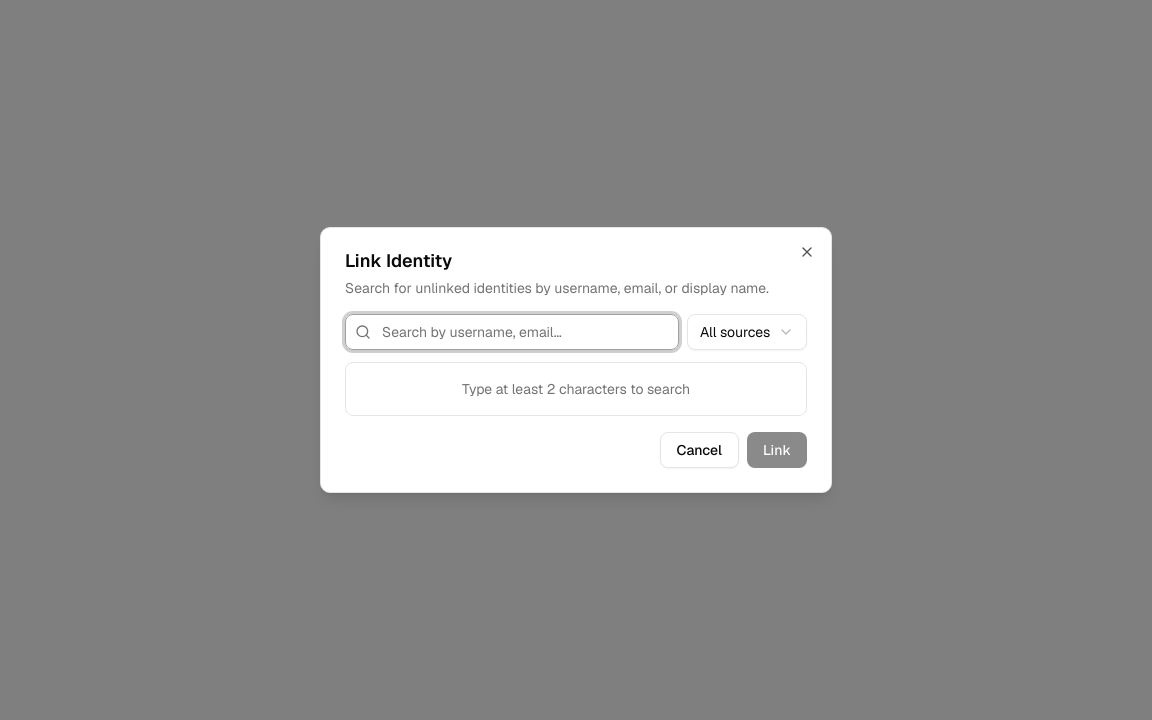
Test: LinkIdentityDialog › shows no results message when search returns empty
In the field with placeholder "Search by username, email…": coordinates (512, 332) [345,314,679,350], type "nonexistent"
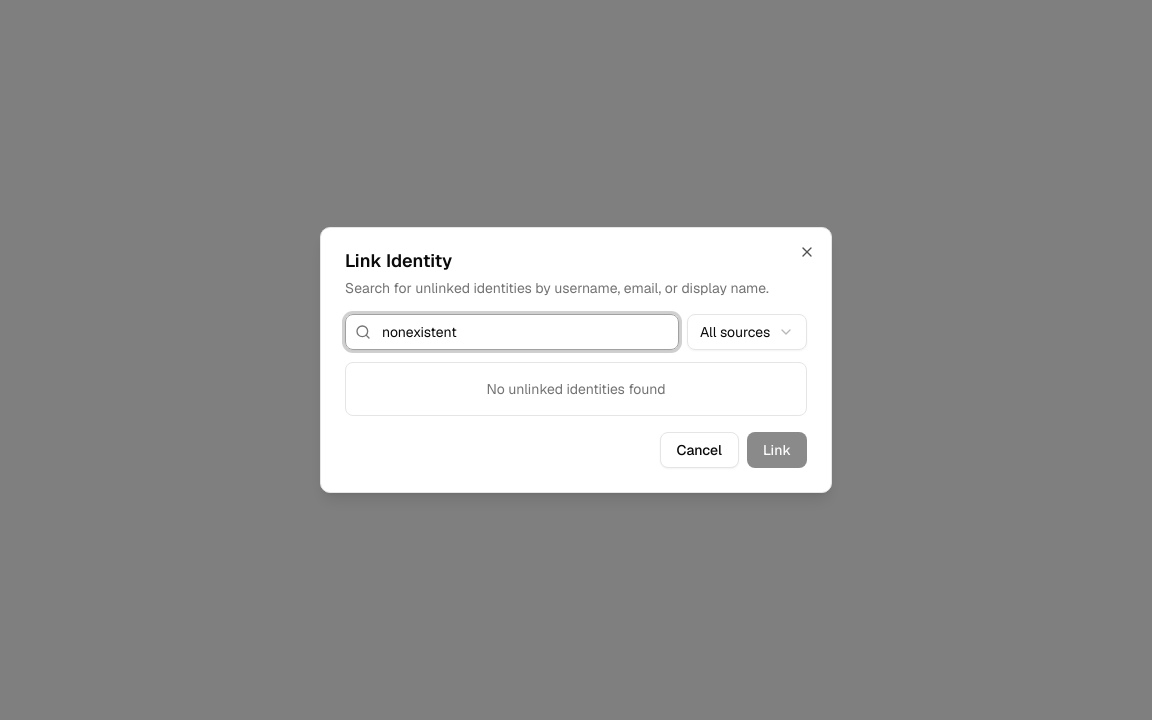
Check: the text "No unlinked identities found" is shown, box [486,380,666,398]
